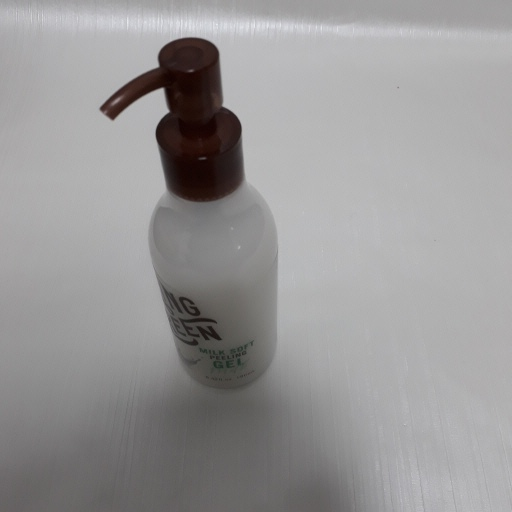Plastic_3: (95, 38, 289, 391)
